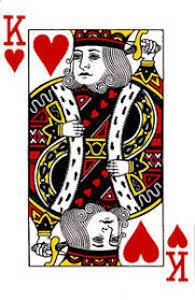KingOfHearts: (1, 1, 195, 293)
